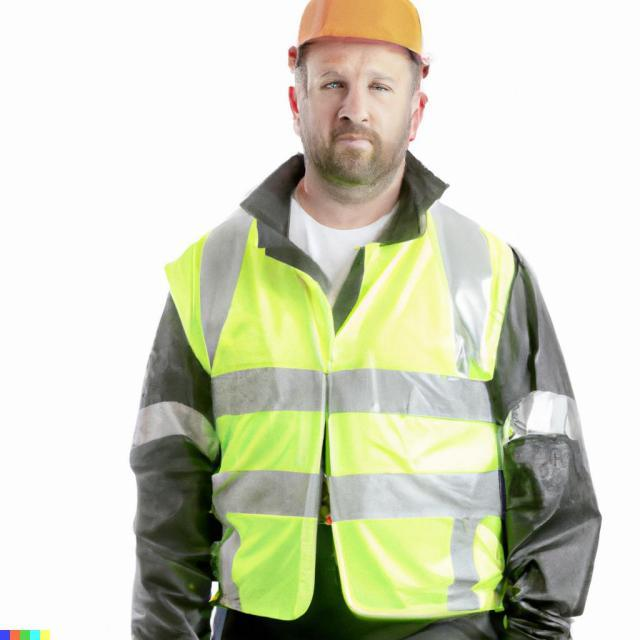Helmet: (285, 0, 439, 185)
Vest: (168, 195, 546, 628)
